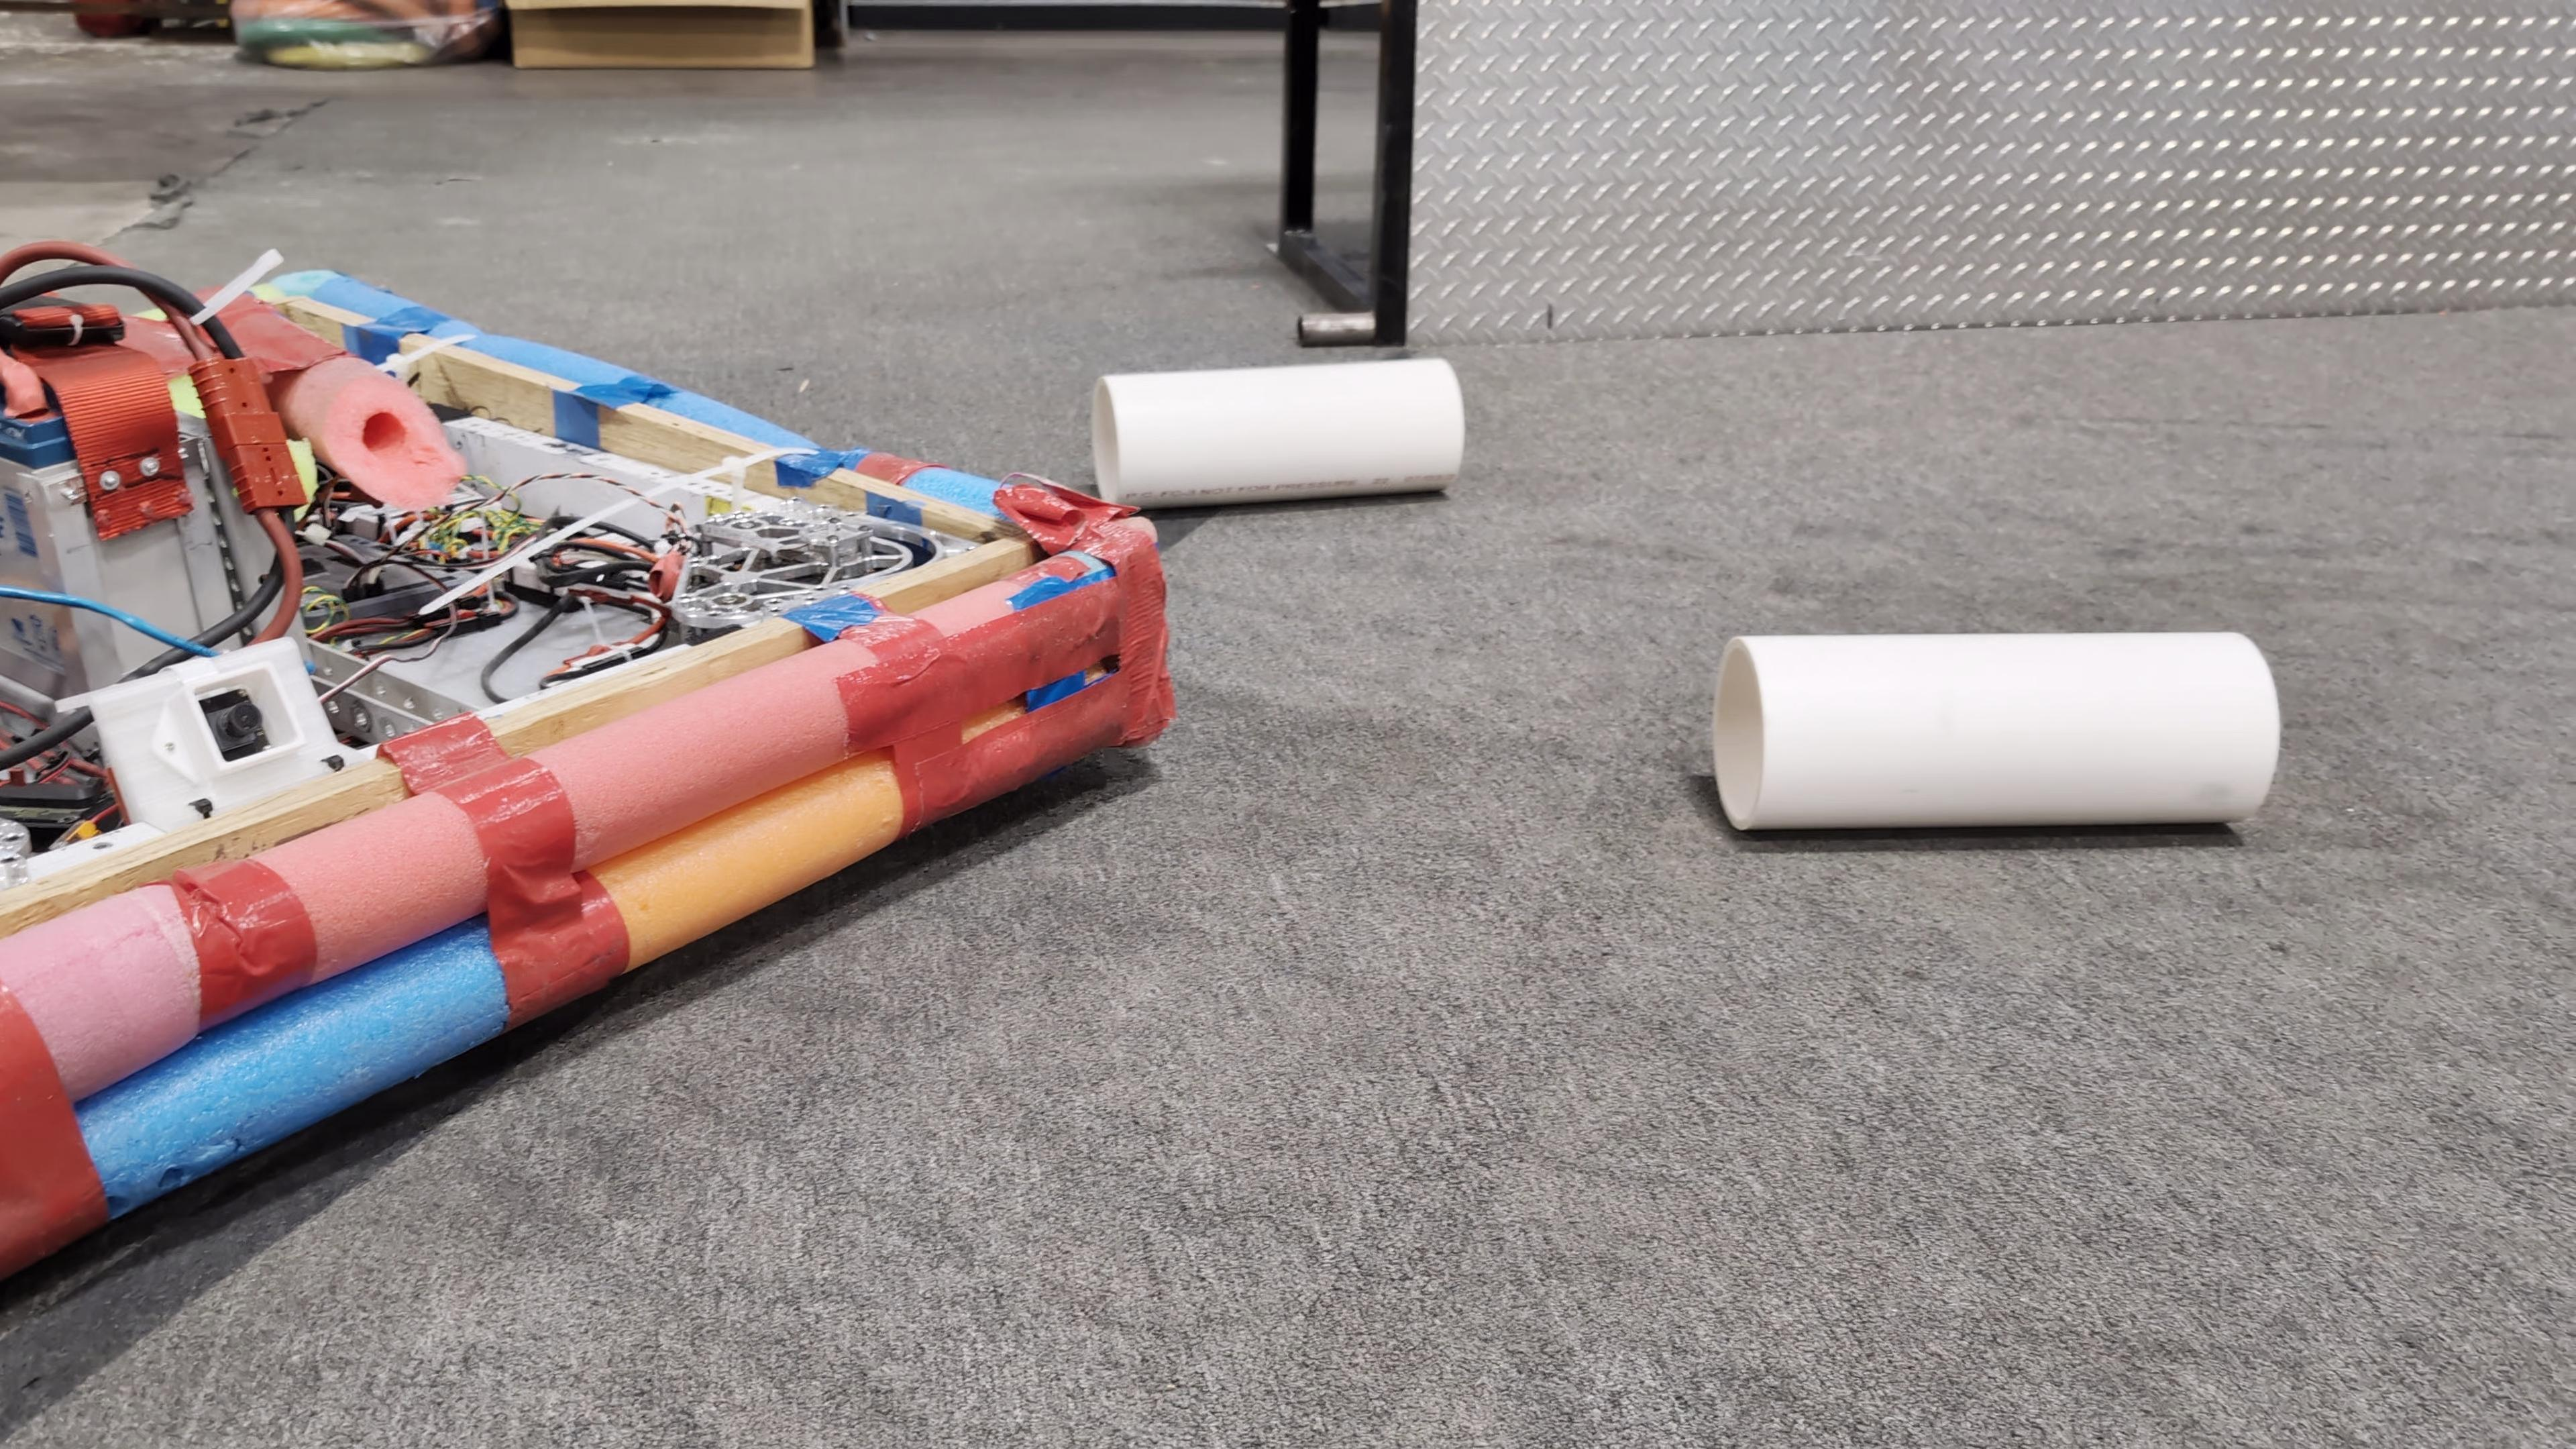coral: (1716, 632, 2281, 832), (1093, 359, 1467, 506)
